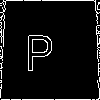P: (24, 25, 54, 71)
